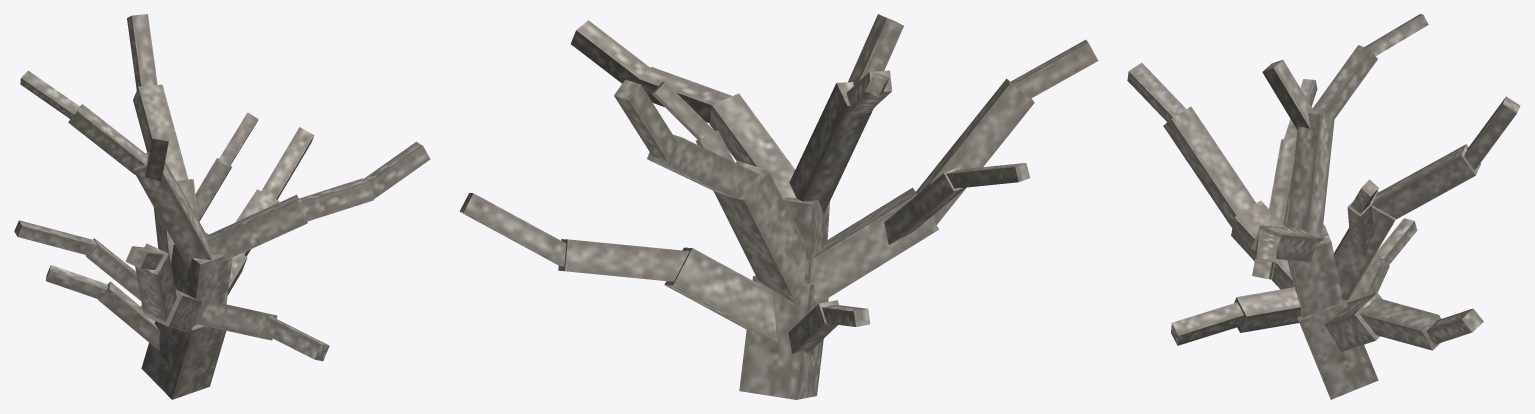
The model's file is white_tree_canopy.obj.
The picture shows the model from 3 angles, left to right: view 1: azimuth 30°, elevation 25°; view 2: azimuth 150°, elevation 25°; view 3: azimuth 270°, elevation 25°; orthographic projection. The views are drawn at different scales.
Visible parts, largest first — view 1: cube; view 2: cube; view 3: cube.
Part boxes in pixels (x1,y1,x2,y2): cube: (14, 14, 430, 399); cube: (459, 14, 1098, 399); cube: (1127, 14, 1520, 399).
Size of the model in its own units: 6.57 by 5.1 by 5.71.
